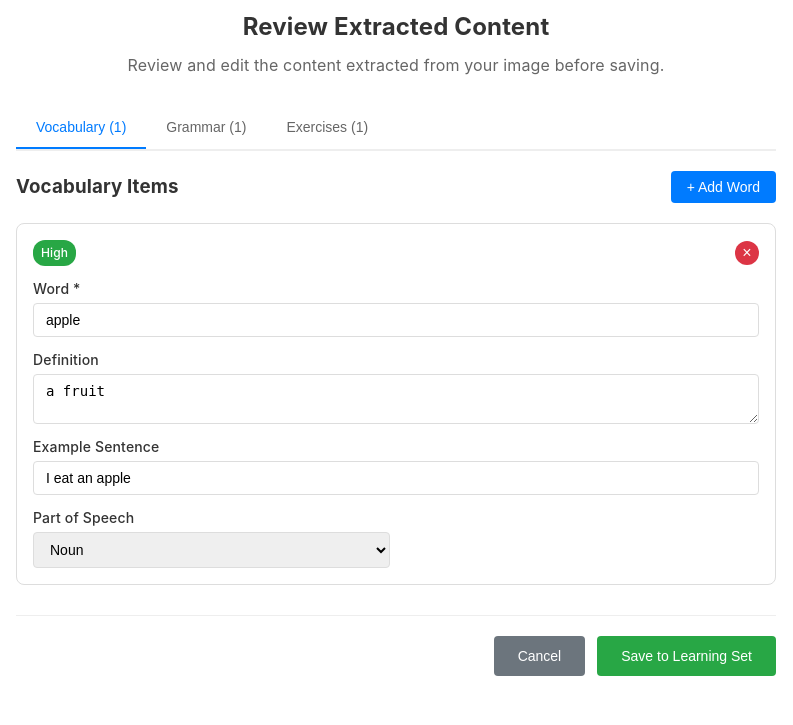
Test case: ContentReview › switches between tabs
The width and height of the screenshot is (793, 725).
Click grammar tab
Click the button "Grammar (1)" at x=206, y=128, box [146,107,266,149]
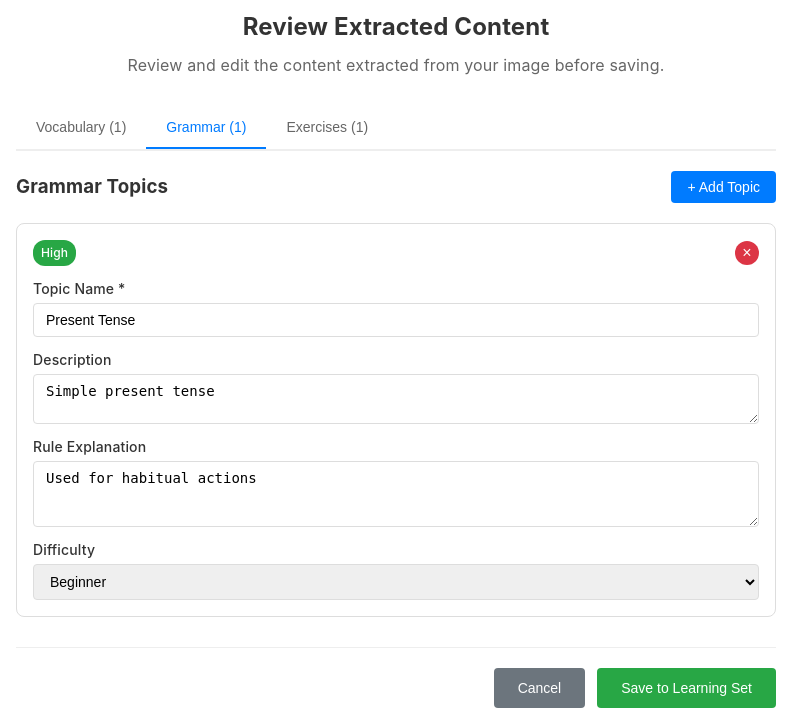
Now the heading "Grammar Topics" is shown, box [16,173,168,201]
Now the field showing "Present Tense" is shown, box [33,303,759,337]
Click exercises tab
Click the button "Exercises (1)" at x=327, y=128, box [266,107,388,149]
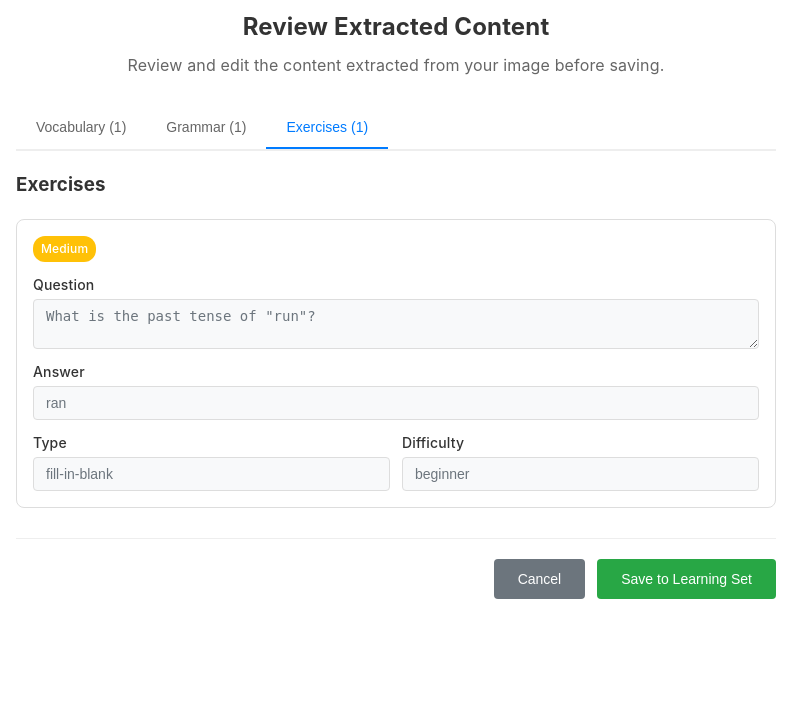
Now the heading "Exercises" is shown, box [16,171,106,199]
Now the text box showing "What is the past tense of \"run\"?" is shown, box [33,299,759,349]
